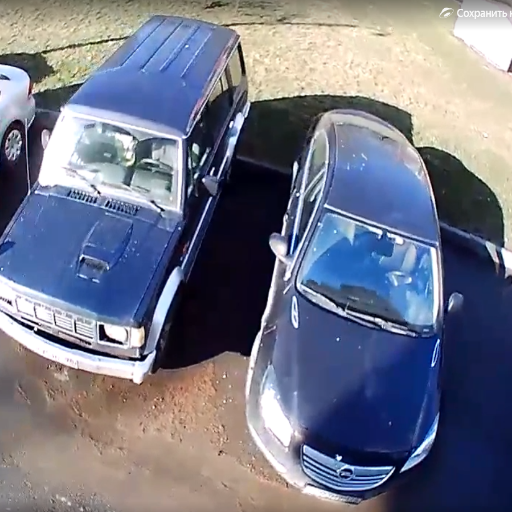Car: (1, 16, 251, 385), (243, 105, 454, 503)
